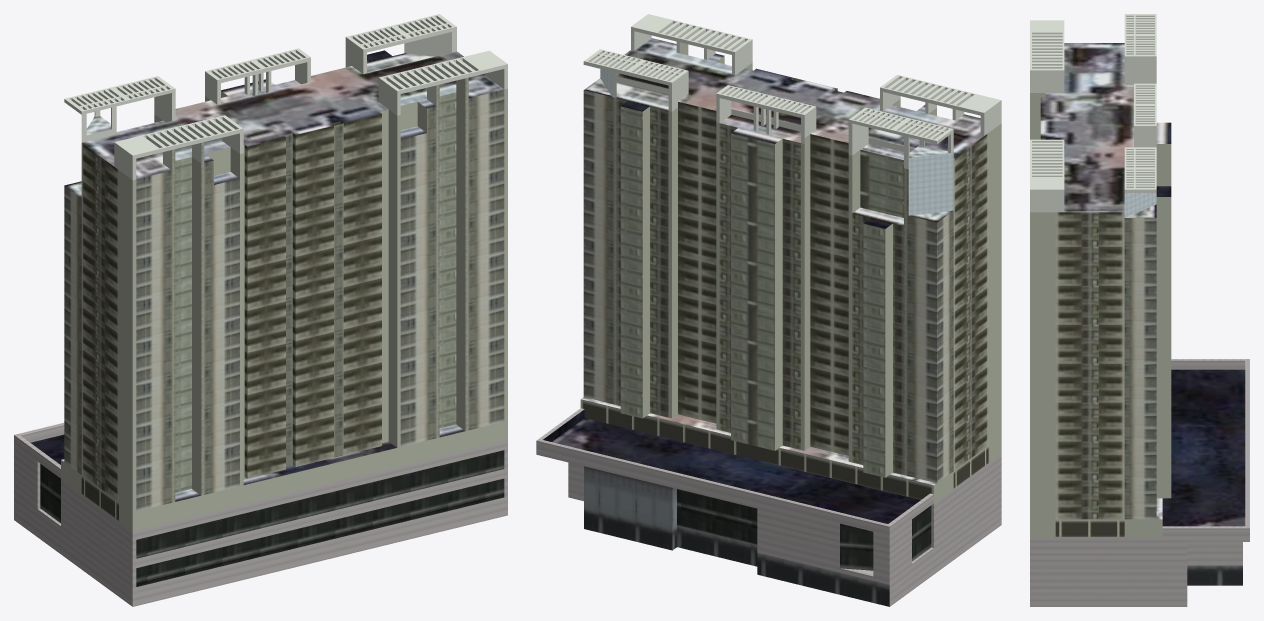
The model's file is jialinhaoting_garden_6004d8a8.glb.
3 renders of one model, left to right at view 1: azimuth 30°, elevation 25°; view 2: azimuth 150°, elevation 25°; view 3: azimuth 270°, elevation 25°, orthographic. The views are drawn at different scales.
Visible parts, largest first — view 1: jialinhaoting_garden_6004d8a8; view 2: jialinhaoting_garden_6004d8a8; view 3: jialinhaoting_garden_6004d8a8.
Boxes of the visible parts, x1,y1,x2,y2 form: jialinhaoting_garden_6004d8a8: [14, 14, 507, 606]; jialinhaoting_garden_6004d8a8: [536, 14, 1001, 606]; jialinhaoting_garden_6004d8a8: [1030, 14, 1249, 606].
Bounding box in the file's own units: 83 × 96.82 × 45.5.
1 material, 1 textured.
